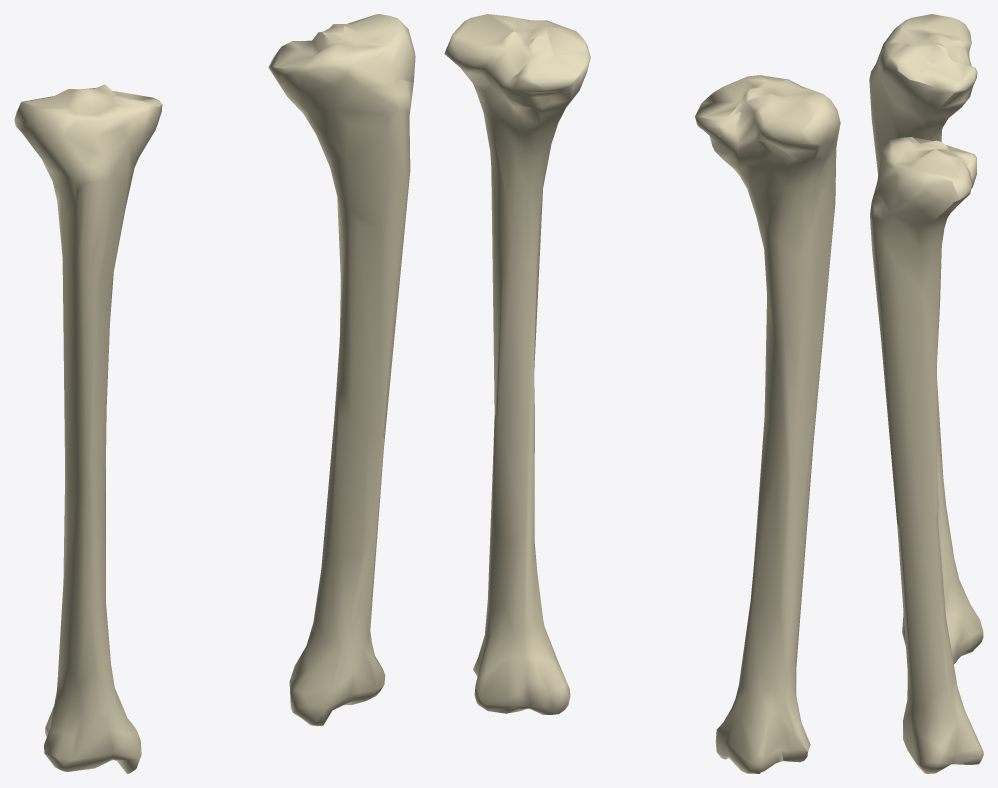
File: tibia.glb
3 views of the same model, side by side, from view 1: azimuth 30°, elevation 25°; view 2: azimuth 150°, elevation 25°; view 3: azimuth 270°, elevation 25° (orthographic). The views are drawn at different scales.
Visible parts, largest first — view 1: Tibia; view 2: Tibia; view 3: Tibia.
Boxes of the visible parts, bbox=[...] form: Tibia: bbox=[14, 14, 415, 773]; Tibia: bbox=[444, 14, 840, 773]; Tibia: bbox=[869, 14, 983, 773].
Size of the model in its own units: 0.2186 by 0.38 by 0.0629.
